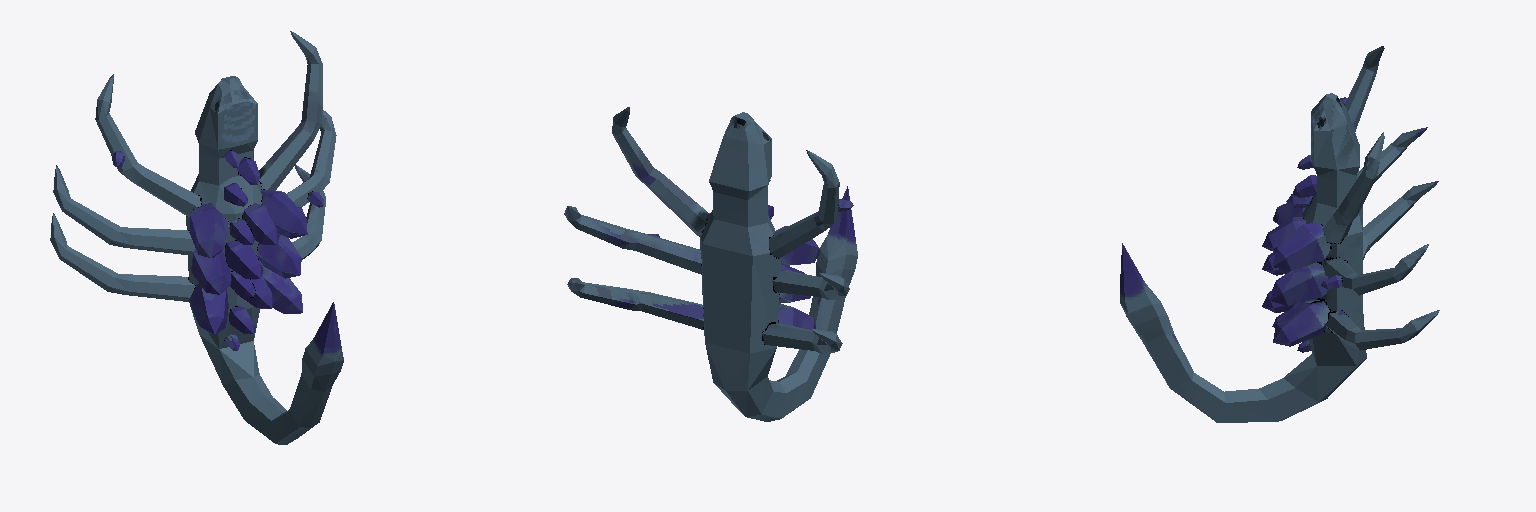
3 views of the same model, side by side, from view 1: azimuth 30°, elevation 25°; view 2: azimuth 150°, elevation 25°; view 3: azimuth 270°, elevation 25° (orthographic).
Visible parts, largest first — view 1: Cube; view 2: Cube; view 3: Cube.
Boxes of the visible parts, <box> form: Cube: <box>50,31,343,444</box>; Cube: <box>564,107,857,421</box>; Cube: <box>1120,46,1439,422</box>.
Bounding box in the file's own units: 2.34 × 2.68 × 2.34.
1 materials, 1 textured.